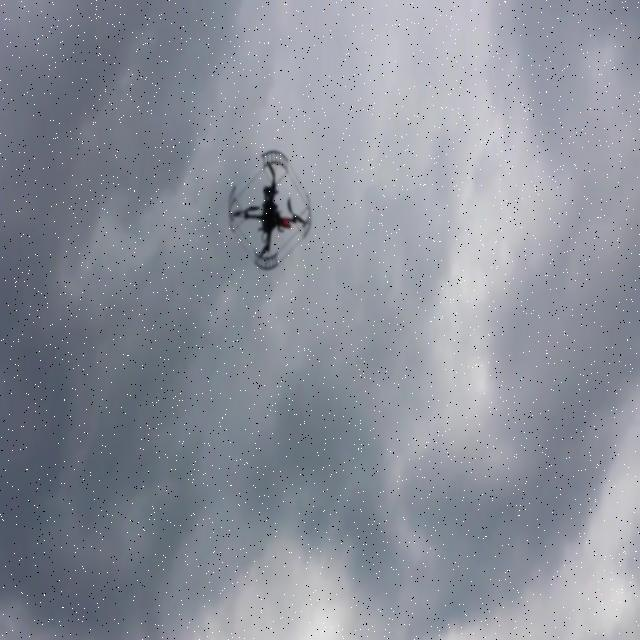UAV: (228, 150, 312, 271)
